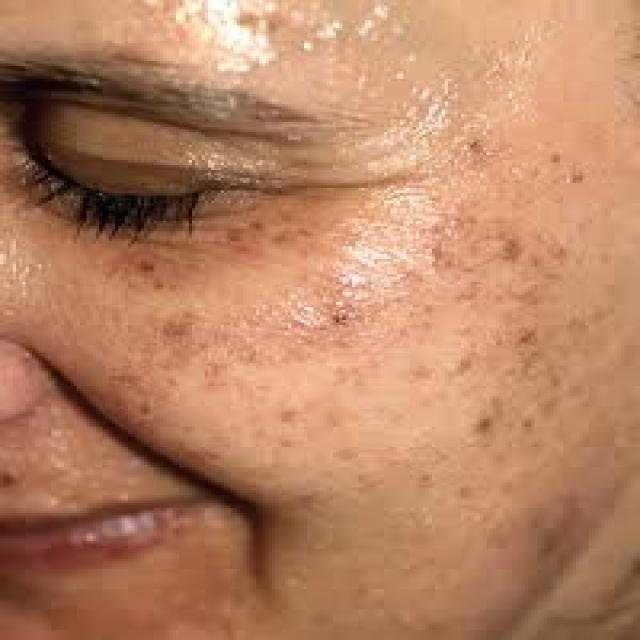pigmentation: (154, 3, 385, 71)
